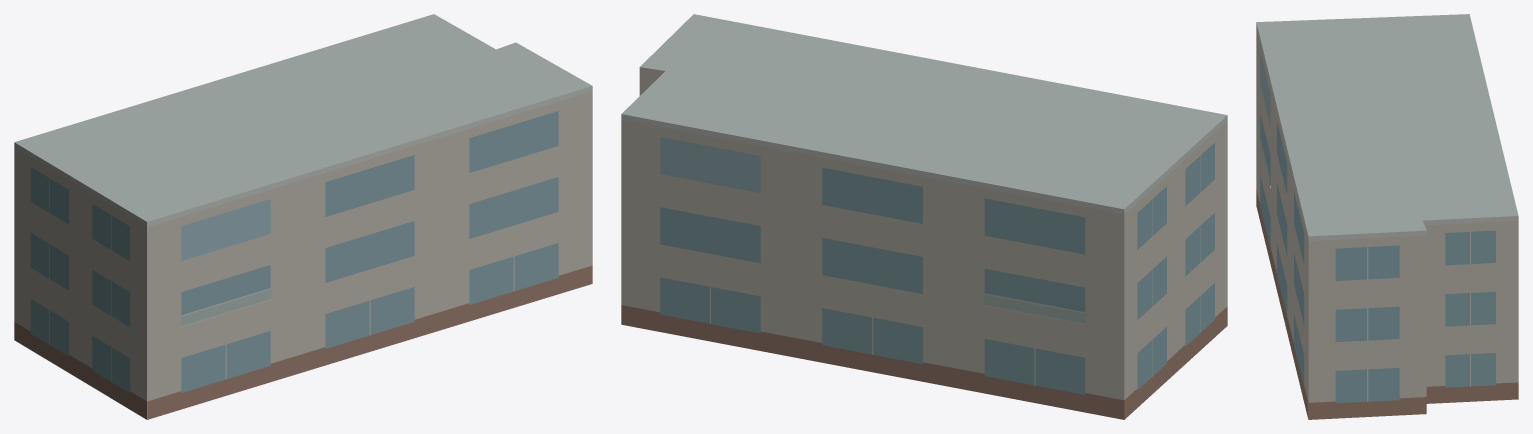
Rendered from survey-upis-32750861.glb.
3 renders of one model, left to right at view 1: azimuth 30°, elevation 25°; view 2: azimuth 150°, elevation 25°; view 3: azimuth 270°, elevation 25°, orthographic. The views are drawn at different scales.
Visible parts, largest first — view 1: survey-upis-32750861.tmp; view 2: survey-upis-32750861.tmp; view 3: survey-upis-32750861.tmp.
Part boxes in pixels (<box>): survey-upis-32750861.tmp: <box>14,14,592,419</box>; survey-upis-32750861.tmp: <box>621,14,1227,419</box>; survey-upis-32750861.tmp: <box>1256,14,1518,419</box>.
Bounding box in the file's own units: 23.79 × 9.15 × 11.86.
